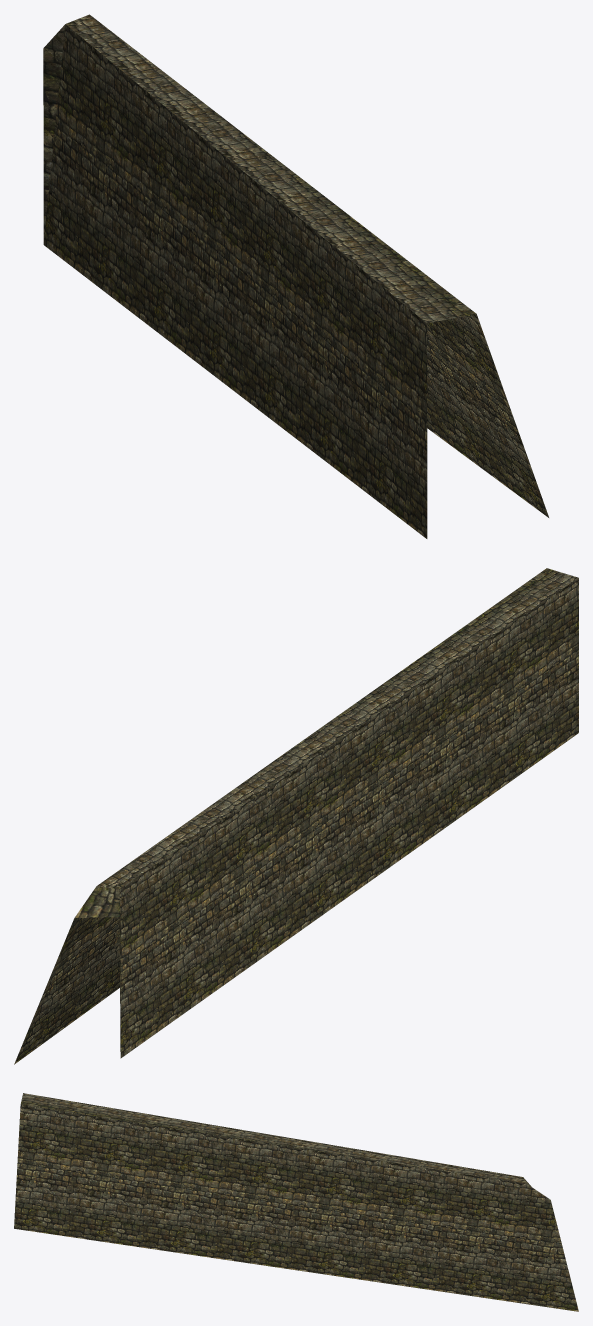
3 renders of one model, top to bottom at view 1: azimuth 30°, elevation 25°; view 2: azimuth 150°, elevation 25°; view 3: azimuth 270°, elevation 25°, orthographic. The views are drawn at different scales.
Parts seen in each view (by area): view 1: TN2_W16; view 2: TN2_W16; view 3: TN2_W16.
Boxes of the visible parts, x1,y1,x2,y2 form: TN2_W16: (43, 14, 548, 538); TN2_W16: (14, 568, 578, 1064); TN2_W16: (14, 1093, 578, 1311).
Bounding box in the file's own units: 8.01 × 10.89 × 34.22.
Materials: 1 (1 with a texture image).
